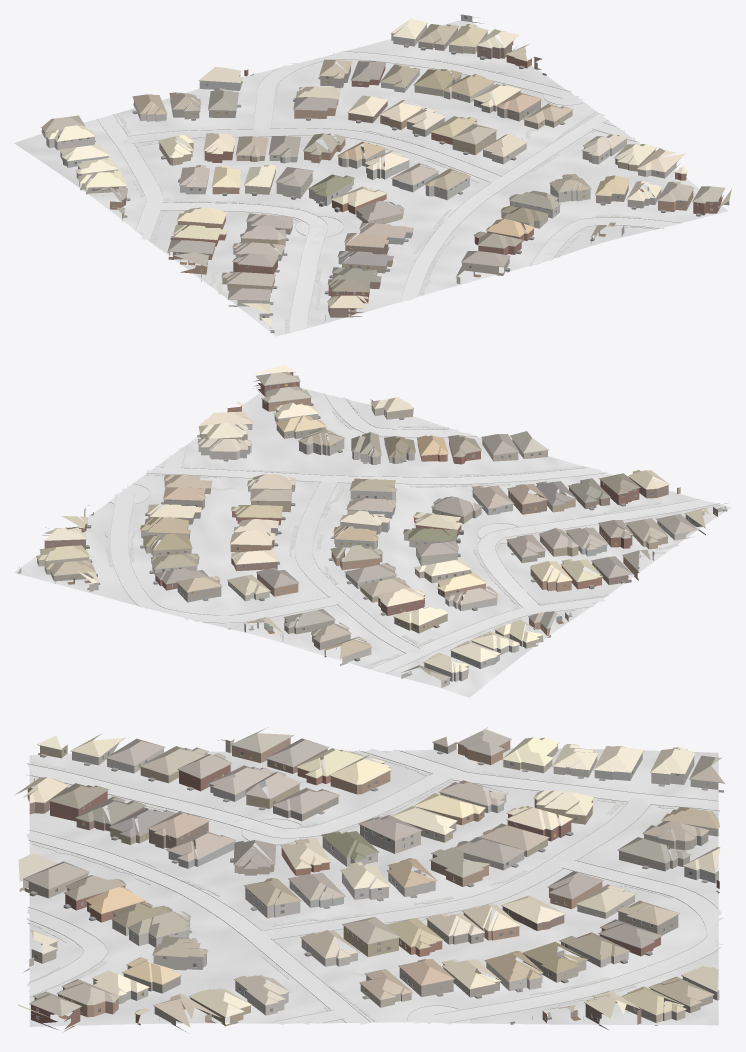
3 renders of one model, top to bottom at view 1: azimuth 30°, elevation 25°; view 2: azimuth 150°, elevation 25°; view 3: azimuth 270°, elevation 25°, orthographic. The views are drawn at different scales.
Parts seen in each view (by area): view 1: ground, roof, concrete, wall, detail, wall_stucco, wall_stone, asphalt, curb, walk; view 2: ground, roof, concrete, wall, detail, wall_stucco, curb, wall_stone, asphalt, walk, glass; view 3: roof, ground, concrete, wall, wall_stucco, detail, curb, asphalt, wall_stone, walk, glass.
Boxes of the visible parts, box(x1,y1,x2,y2) form: ground: box(14, 20, 727, 336); roof: box(42, 18, 731, 326); concrete: box(98, 52, 674, 333); wall: box(110, 28, 723, 320); detail: box(40, 15, 720, 332); wall_stucco: box(60, 27, 661, 320); wall_stone: box(41, 14, 680, 218); asphalt: box(401, 113, 606, 300); curb: box(97, 51, 681, 333); walk: box(116, 58, 659, 333); ground: box(14, 387, 731, 697); roof: box(36, 365, 728, 680); concrete: box(110, 395, 717, 673); wall: box(42, 372, 717, 650); detail: box(19, 372, 727, 683); wall_stucco: box(37, 410, 705, 668); curb: box(105, 393, 720, 673); wall_stone: box(17, 424, 518, 687); asphalt: box(146, 467, 602, 484); walk: box(104, 399, 721, 667); glass: box(51, 384, 716, 683); roof: box(15, 727, 724, 1027); ground: box(29, 748, 718, 1026); concrete: box(26, 748, 723, 1025); wall: box(23, 737, 719, 1031); wall_stucco: box(19, 739, 718, 1025); detail: box(20, 735, 724, 1024); curb: box(26, 750, 721, 1022); asphalt: box(27, 831, 370, 1024); wall_stone: box(129, 756, 723, 1033); walk: box(28, 750, 718, 1022); glass: box(34, 746, 691, 1021).
Size of the model in its own units: 266 by 18.07 by 261.
